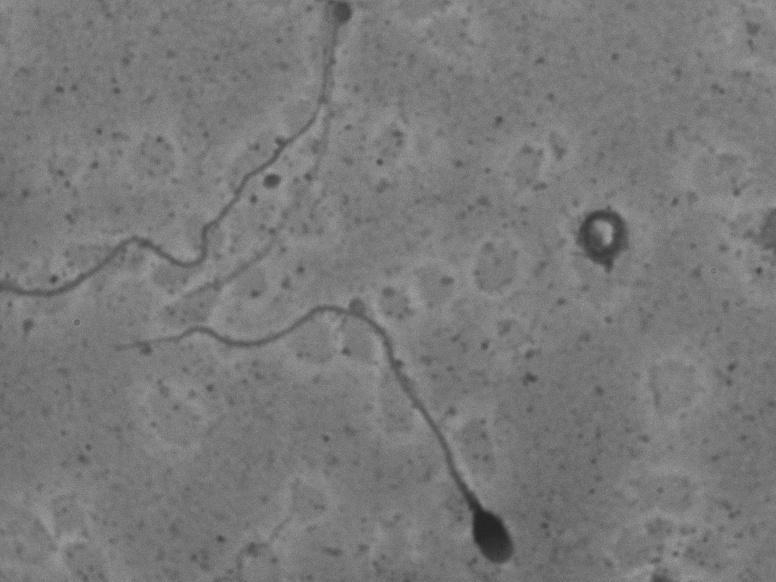Normal: (107, 294, 523, 573)
